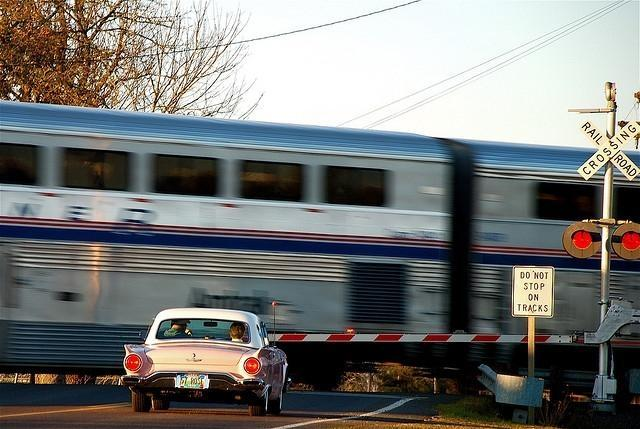car: (121, 308, 291, 416)
